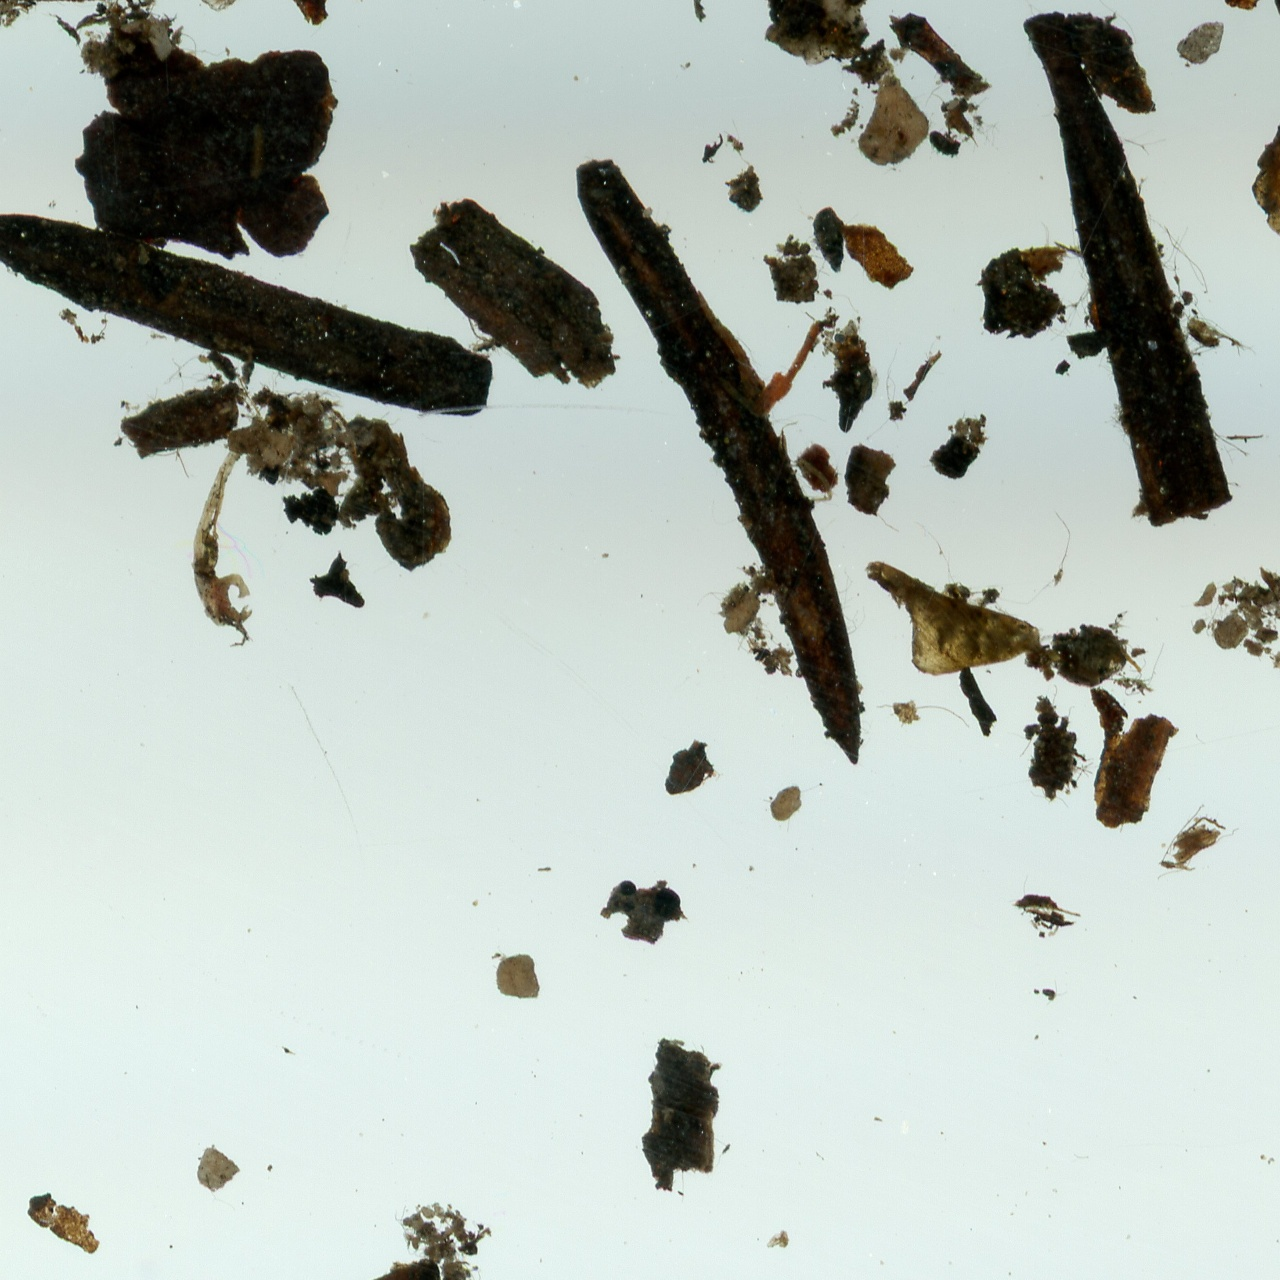arthropod: (822, 316, 878, 434), (1214, 0, 1266, 15)
